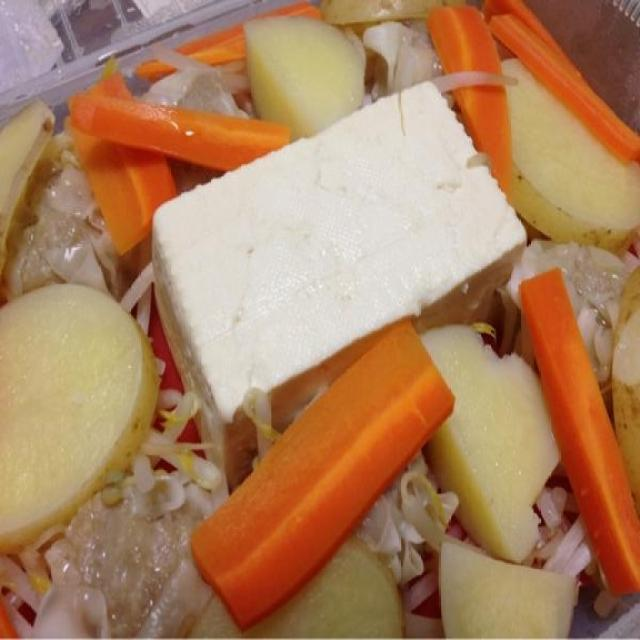豆腐料理: (31, 8, 623, 628)
